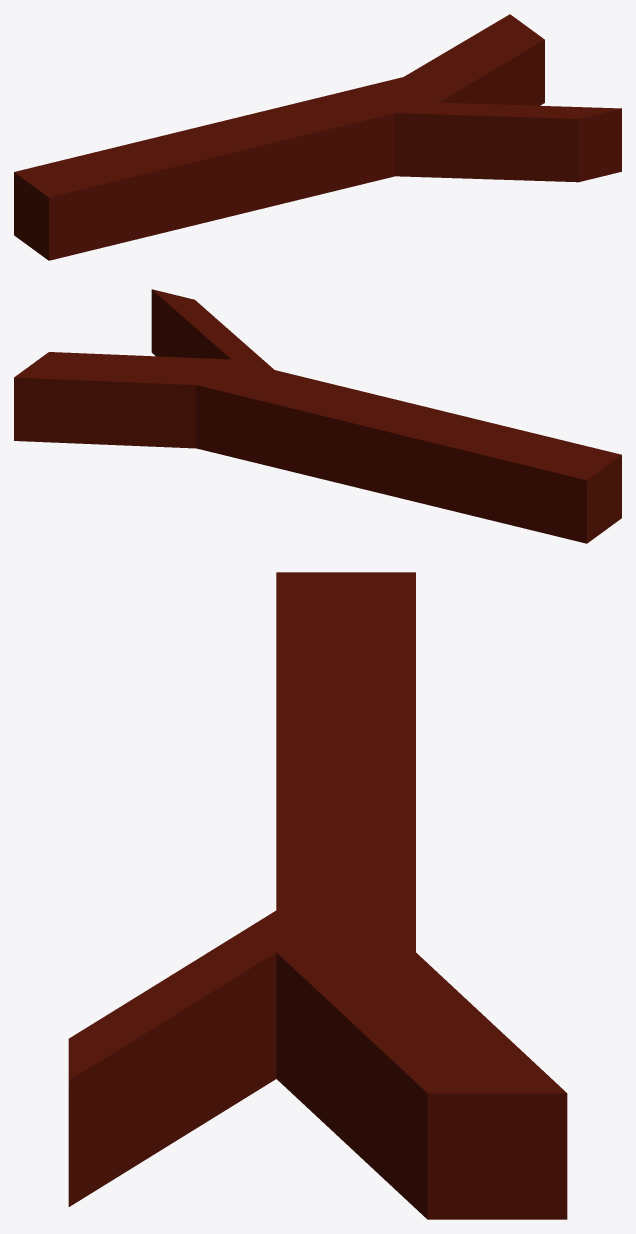
File: treeBranch.fbx
3 views of the same model, one above another, from view 1: azimuth 30°, elevation 25°; view 2: azimuth 150°, elevation 25°; view 3: azimuth 270°, elevation 25° (orthographic). The views are drawn at different scales.
Visible parts, largest first — view 1: Stick; view 2: Stick; view 3: Stick.
Part boxes in pixels (x1,y1,x2,y2): Stick: (14,14,621,260); Stick: (14,289,621,543); Stick: (68,572,567,1219).
Bounding box in the file's own units: 337 × 38.13 × 136.
